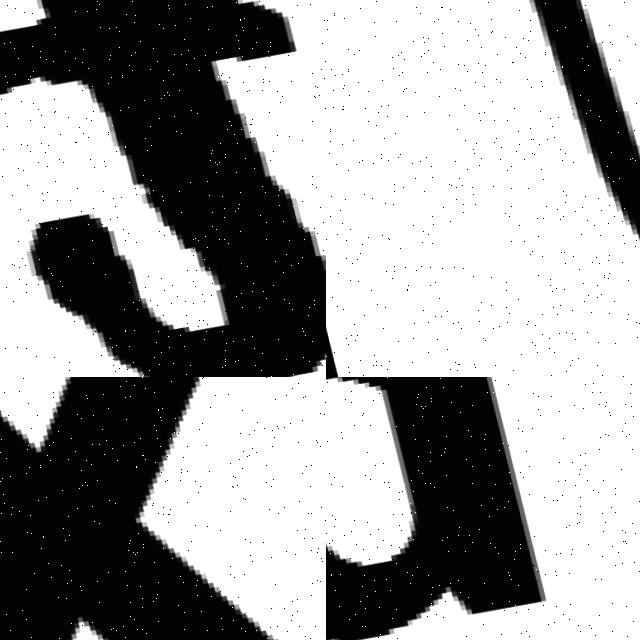B: (326, 377, 541, 640)
F: (398, 0, 640, 335)
T: (0, 0, 326, 377)
X: (0, 377, 326, 640)
